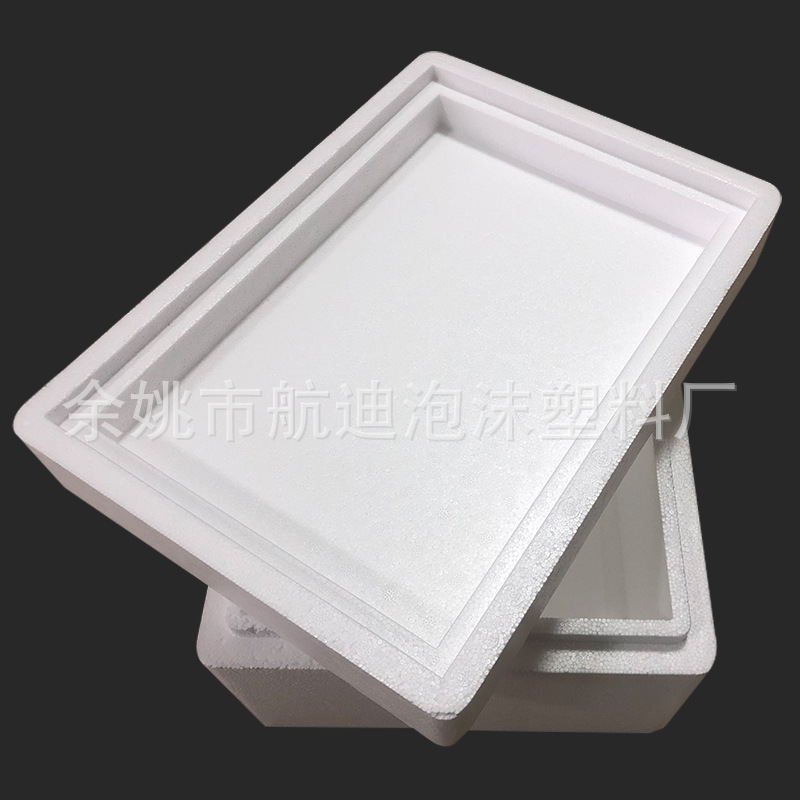泡沫箱: (15, 54, 780, 742)
